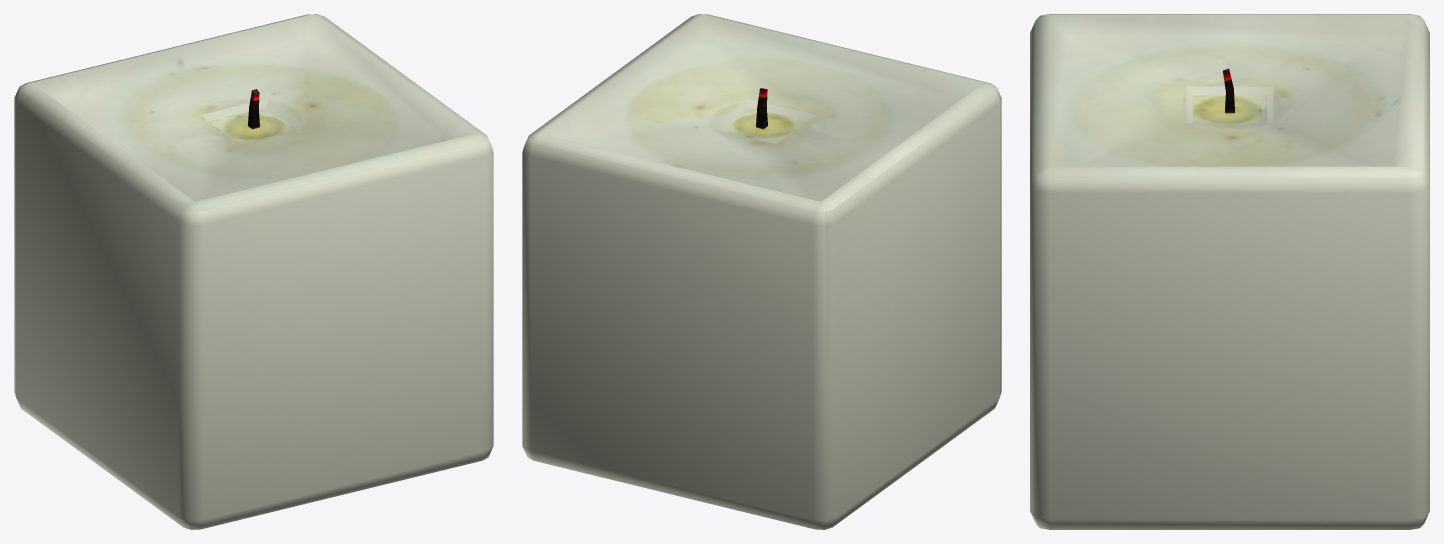
File: cube_candle.fbx
3 views of the same model, side by side, from view 1: azimuth 30°, elevation 25°; view 2: azimuth 150°, elevation 25°; view 3: azimuth 270°, elevation 25° (orthographic). The views are drawn at different scales.
Parts seen in each view (by area): view 1: candle_cube; view 2: candle_cube; view 3: candle_cube.
Boxes of the visible parts, bbox=[...] form: candle_cube: bbox=[14, 14, 493, 529]; candle_cube: bbox=[522, 14, 1001, 529]; candle_cube: bbox=[1030, 14, 1429, 529].
Bounding box in the file's own units: 14.85 × 15.71 × 14.85.
